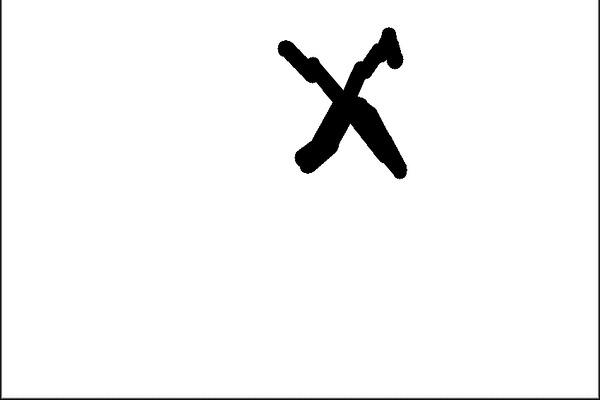X: (253, 13, 441, 197)
